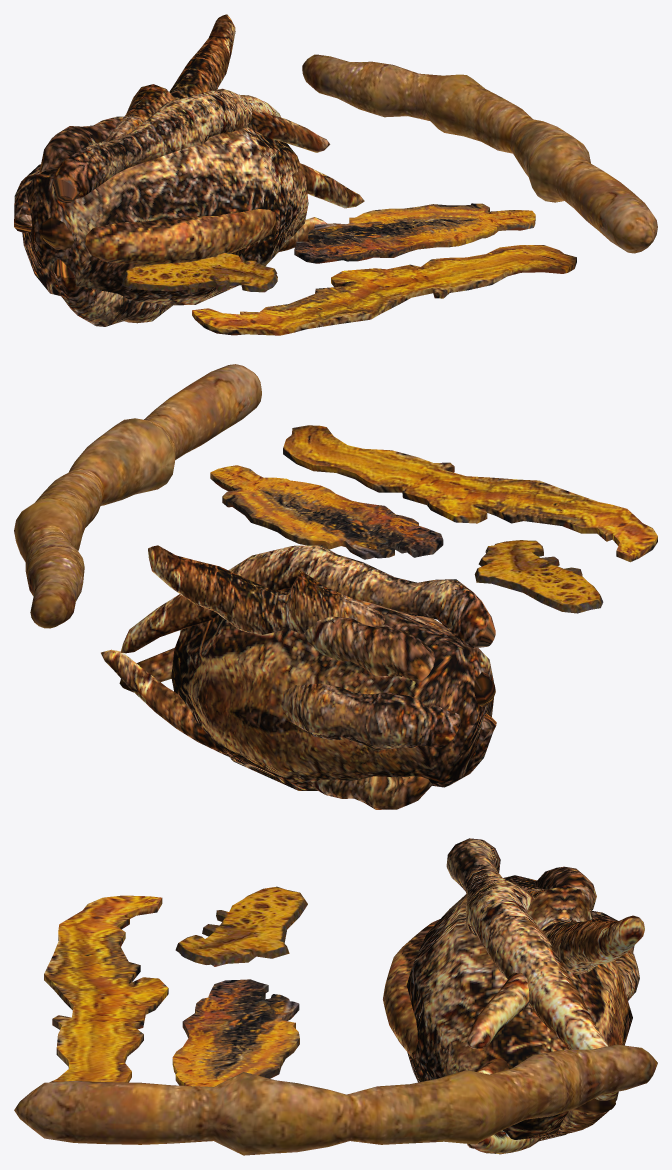
Rendered from huanglian.FBX.
3 views of the same model, one above another, from view 1: azimuth 30°, elevation 25°; view 2: azimuth 150°, elevation 25°; view 3: azimuth 270°, elevation 25° (orthographic). The views are drawn at different scales.
Visible parts, largest first — view 1: Sphere002, Cylinder001, Line003, Cylinder002, Line002, Cylinder004, Line001, Cylinder006, Cylinder003, Cylinder007, Cylinder005; view 2: Sphere002, Cylinder001, Line003, Cylinder002, Line002, Cylinder006, Cylinder005, Cylinder003, Line001, Cylinder007, Cylinder004; view 3: Cylinder001, Sphere002, Line003, Cylinder002, Line002, Line001, Cylinder006, Cylinder003, Cylinder004, Cylinder005, Cylinder007.
Boxes of the visible parts, x1,y1,x2,y2 form: Sphere002: (22,127,308,305); Cylinder001: (302,54,657,253); Line003: (192,245,576,335); Cylinder002: (53,88,280,203); Line002: (294,203,535,263); Cylinder004: (39,209,276,264); Line001: (121,252,277,293); Cylinder006: (105,14,235,141); Cylinder003: (39,110,330,251); Cylinder007: (52,259,172,326); Cylinder005: (14,163,364,233); Sphere002: (171,588,494,790); Cylinder001: (14,364,261,628); Line003: (283,425,657,562); Cylinder002: (120,545,495,653); Line002: (210,465,443,559); Cylinder006: (148,545,385,634); Cylinder005: (180,629,460,750); Cylinder003: (304,616,435,809); Line001: (474,540,603,613); Cylinder007: (101,649,496,787); Cylinder004: (119,647,495,706); Cylinder001: (14,1044,657,1155); Sphere002: (406,875,632,1140); Line003: (44,895,168,1082); Cylinder002: (446,838,608,1049); Line002: (172,979,299,1086); Line001: (175,886,307,966); Cylinder006: (525,885,644,974); Cylinder003: (466,866,596,1154); Cylinder004: (383,919,615,1114); Cylinder005: (477,911,639,1074); Cylinder007: (558,1091,618,1135).
Bounding box in the file's own units: 476 × 225 × 483.
